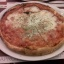pizza: (1, 3, 61, 53)
